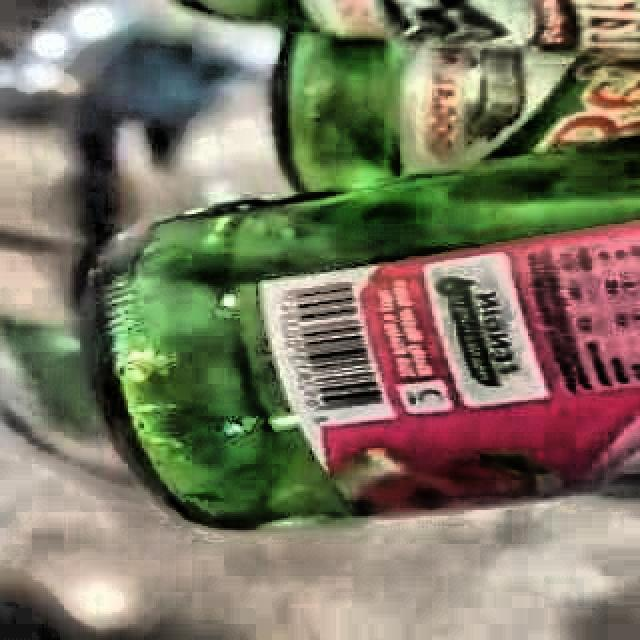glass: (75, 0, 640, 529)
